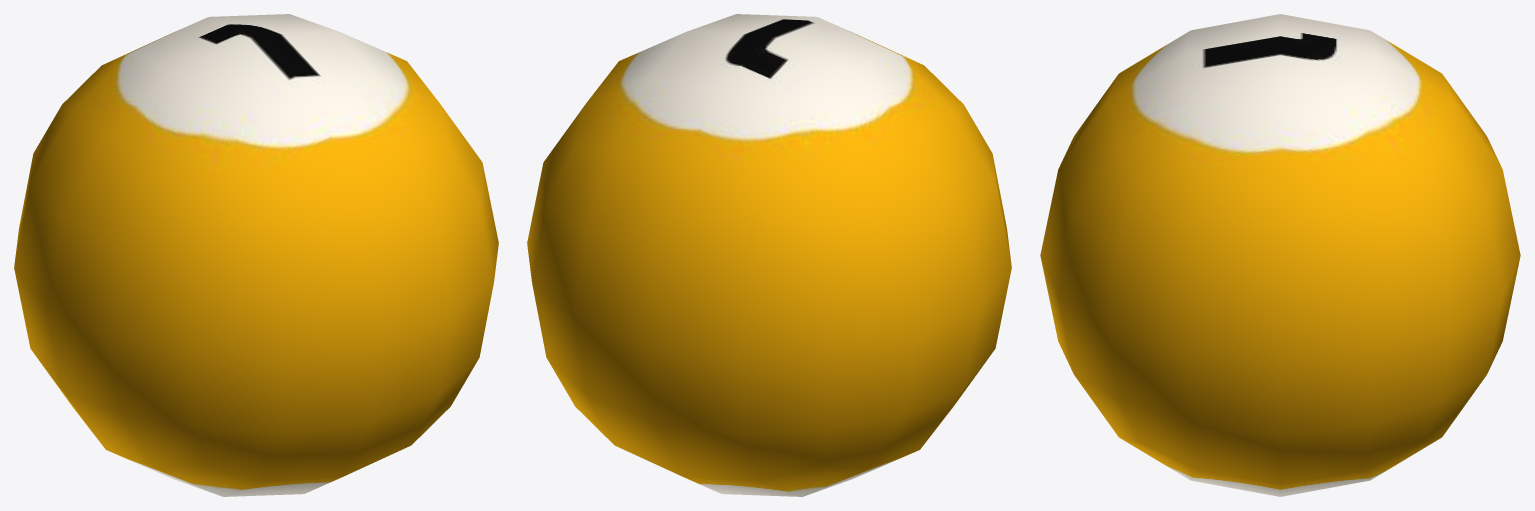
Rendered from ball_01.fbx.
3 views of the same model, side by side, from view 1: azimuth 30°, elevation 25°; view 2: azimuth 150°, elevation 25°; view 3: azimuth 270°, elevation 25° (orthographic).
Visible parts, largest first — view 1: BilliardBall.001; view 2: BilliardBall.001; view 3: BilliardBall.001.
Boxes of the visible parts, x1,y1,x2,y2 form: BilliardBall.001: [14, 14, 498, 496]; BilliardBall.001: [527, 14, 1011, 496]; BilliardBall.001: [1040, 14, 1520, 496].
Size of the model in its own units: 0.0753 by 0.0753 by 0.0753.
